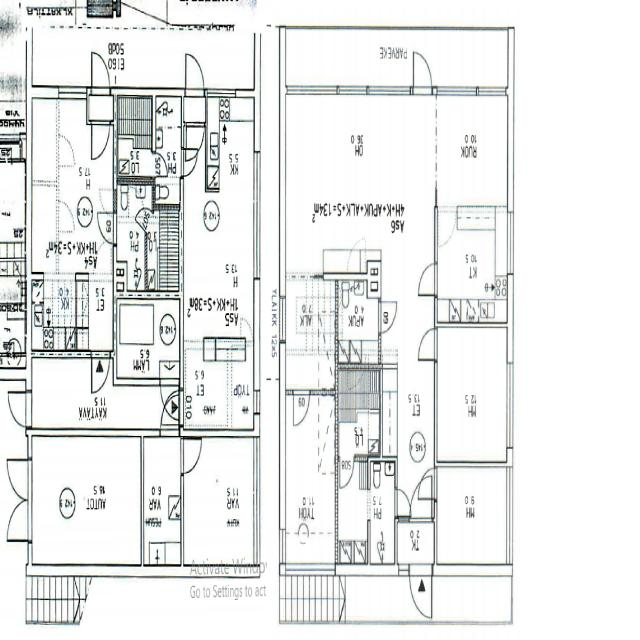door: (409, 565, 431, 618), (409, 476, 432, 522), (7, 460, 32, 501), (7, 500, 32, 540), (186, 391, 205, 437), (413, 49, 432, 95), (92, 52, 110, 98), (160, 393, 178, 437), (186, 52, 203, 98), (92, 350, 110, 393), (10, 392, 32, 426), (162, 390, 184, 424), (161, 378, 178, 420), (96, 212, 117, 245), (135, 200, 154, 234), (418, 468, 437, 499), (418, 264, 437, 295), (378, 302, 397, 333), (293, 390, 309, 425), (419, 329, 437, 360), (340, 455, 354, 487), (181, 149, 197, 176), (395, 490, 411, 516), (152, 152, 167, 176)
